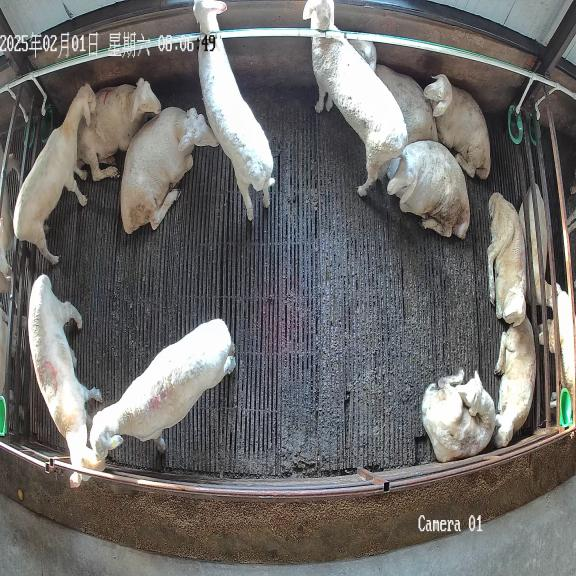lying: (120, 107, 219, 234), (351, 40, 438, 144), (75, 78, 161, 180), (387, 141, 470, 238), (424, 74, 490, 179), (421, 371, 495, 462), (494, 316, 536, 448), (487, 193, 526, 325)
stand: (89, 319, 236, 459), (303, 0, 407, 196), (193, 0, 275, 220), (28, 274, 105, 487), (13, 84, 97, 264)
